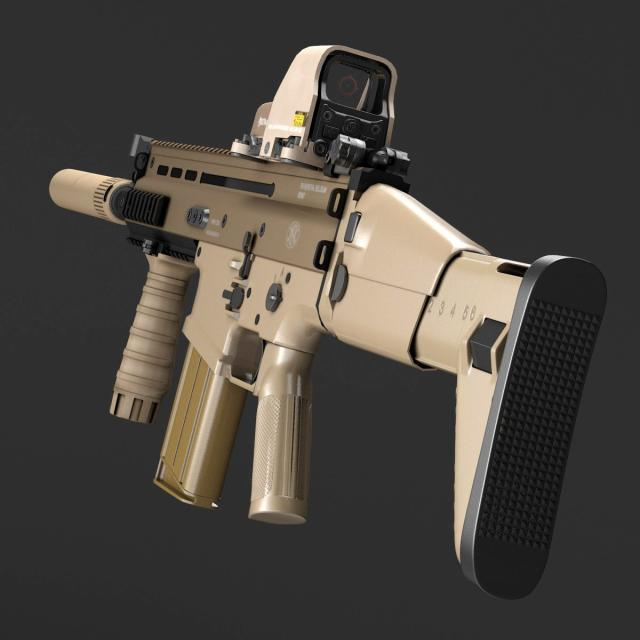Gun: (34, 34, 612, 632)
